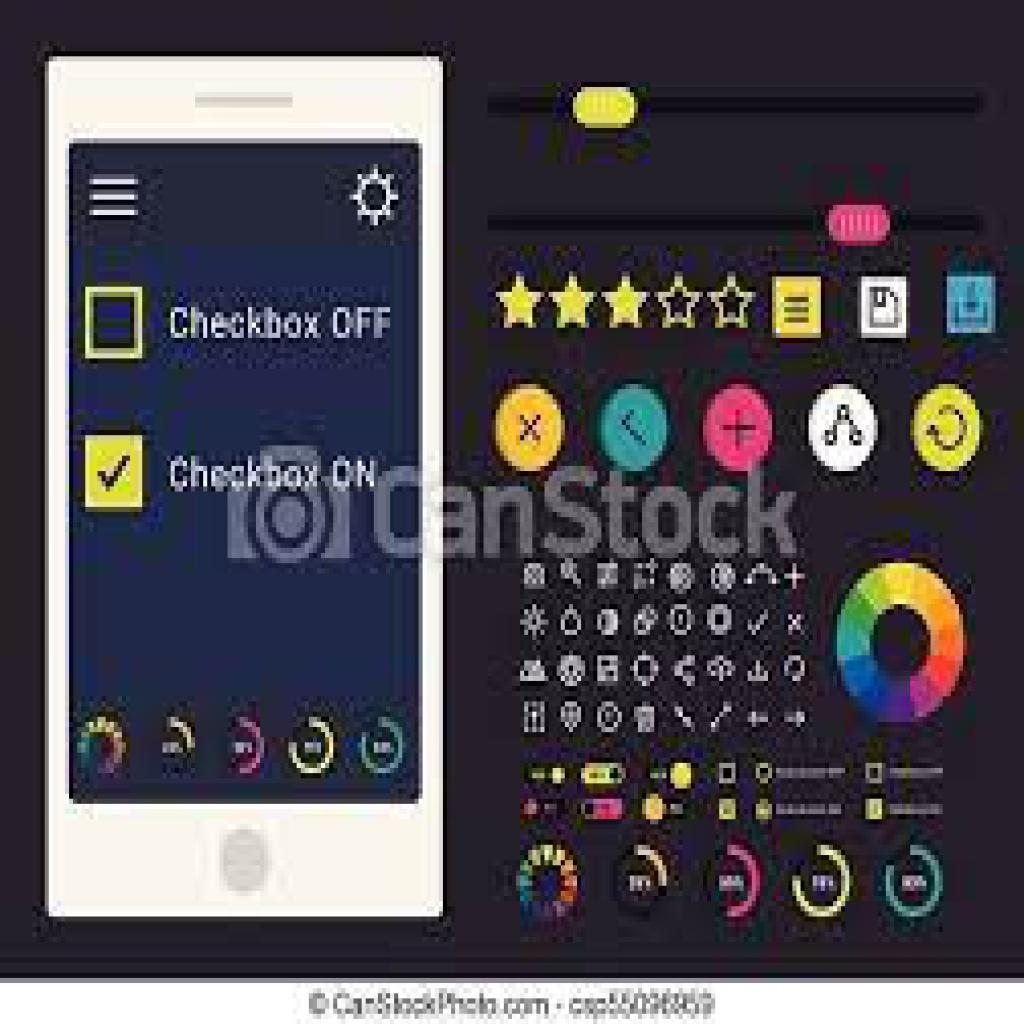checkbox: (85, 433, 144, 512), (85, 286, 145, 360)
icon: (807, 385, 879, 473), (913, 385, 982, 476), (703, 387, 775, 472), (494, 387, 565, 472), (603, 387, 666, 473), (345, 164, 401, 236), (80, 171, 144, 229), (772, 278, 825, 342), (863, 279, 906, 339), (951, 278, 996, 335), (630, 700, 668, 740), (746, 558, 782, 599), (555, 651, 589, 693), (517, 698, 553, 737), (706, 560, 740, 599), (590, 605, 626, 641), (671, 654, 701, 697), (592, 701, 627, 737), (705, 652, 739, 689), (631, 651, 662, 691), (666, 560, 698, 598), (521, 601, 549, 644), (705, 700, 740, 733), (520, 652, 552, 688), (557, 701, 588, 737), (707, 601, 736, 639), (743, 601, 772, 639), (671, 703, 703, 737), (668, 602, 697, 639), (744, 658, 776, 690), (742, 705, 775, 735), (595, 654, 622, 690), (632, 605, 659, 639), (557, 558, 583, 593), (597, 559, 622, 595), (560, 604, 584, 641), (522, 560, 548, 594), (632, 558, 657, 593), (788, 560, 810, 595), (785, 608, 806, 638), (778, 652, 779, 653)
label: (168, 299, 399, 345), (168, 449, 386, 495)
slider: (478, 87, 1005, 142), (491, 201, 991, 251)
